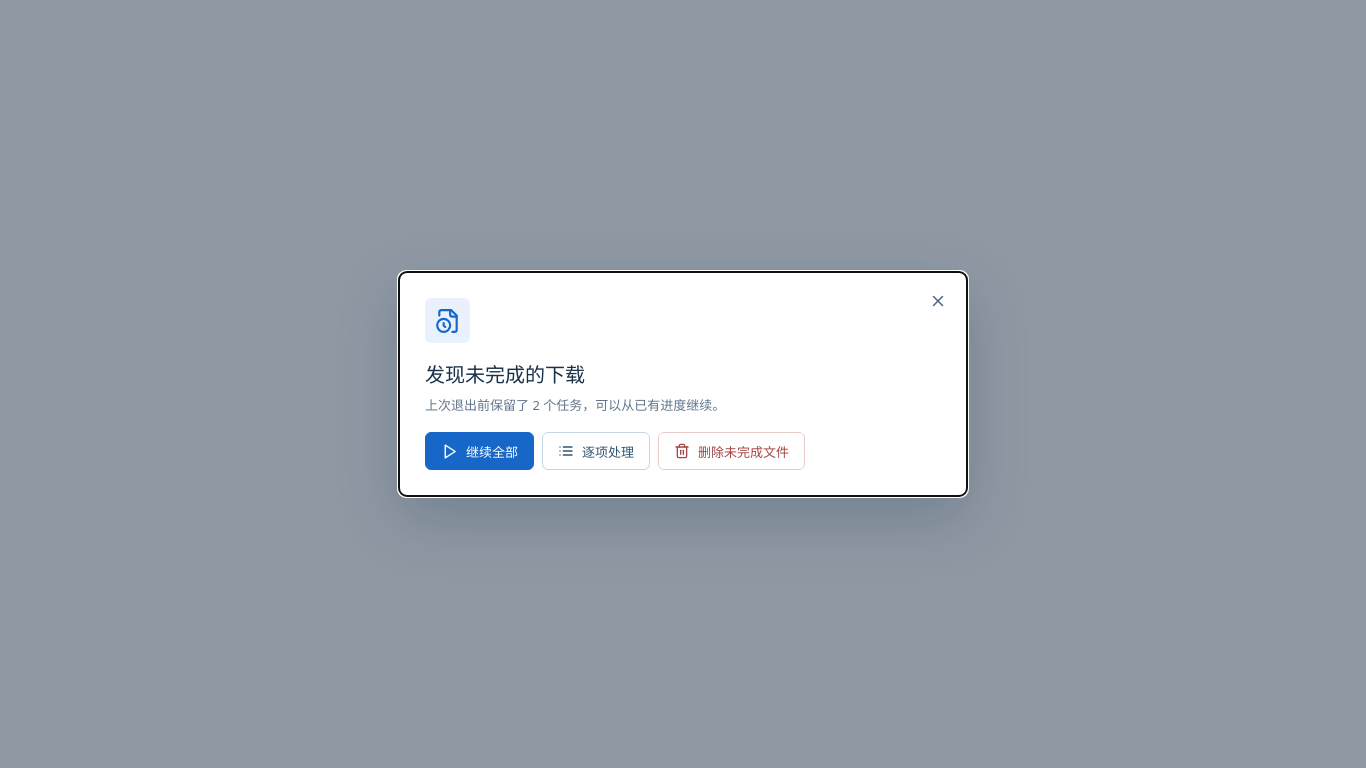
Scenario: removes an individually resumed task from the remaining list
The image size is (1366, 768).
Click the button "逐项处理": x=596, y=451 x1=542 y1=432 x2=650 y2=470
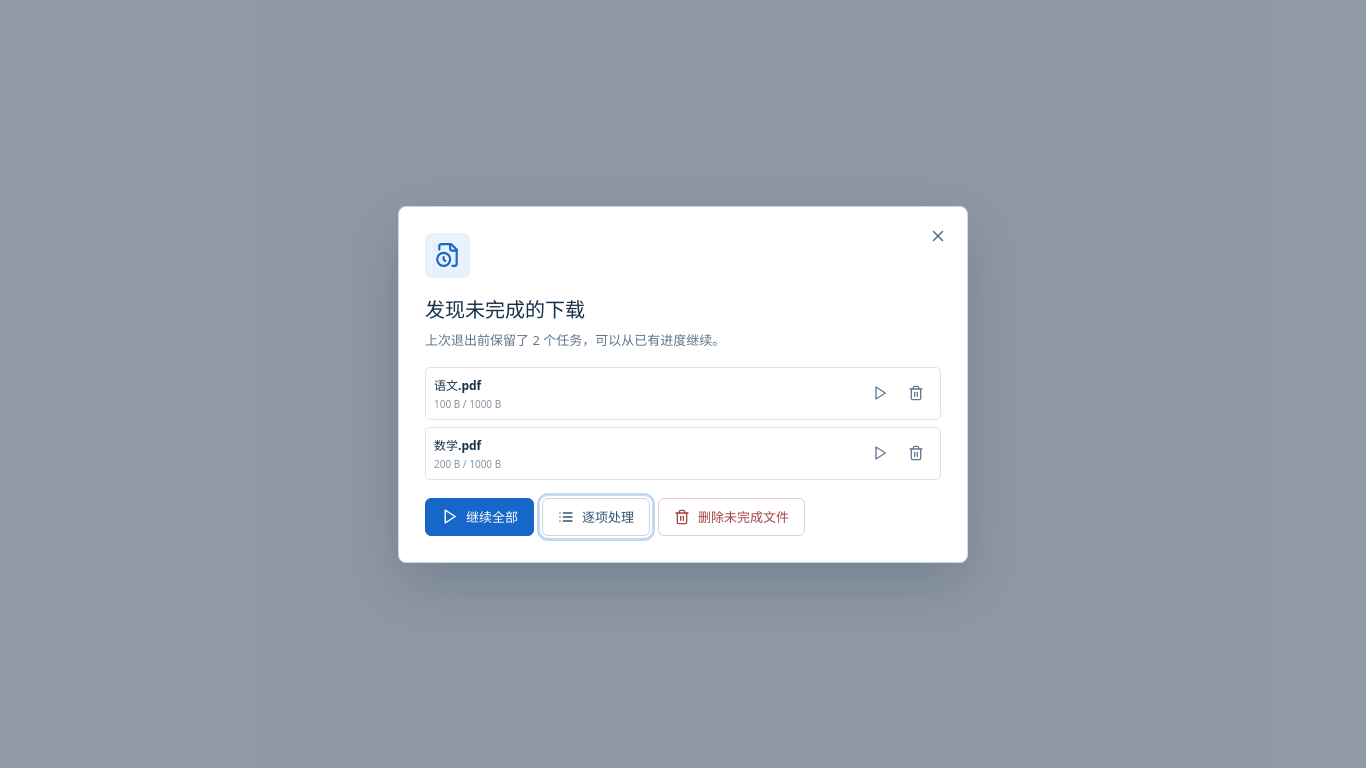
Click the button named "继续 语文.pdf": x=880, y=393 x1=864 y1=377 x2=896 y2=409
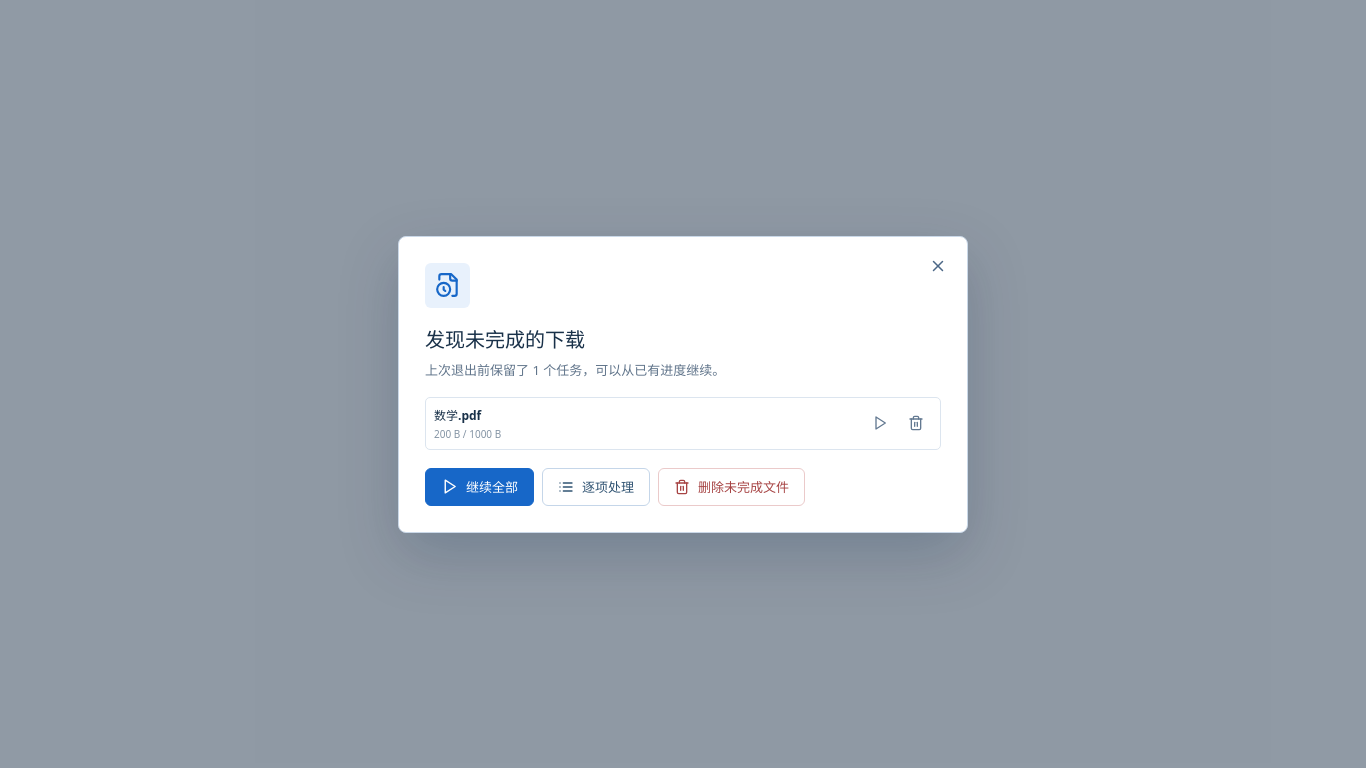
expect the text "数学.pdf" is shown: met, box x1=434 y1=406 x2=481 y2=424
expect the text "语文.pdf" is gone: met
